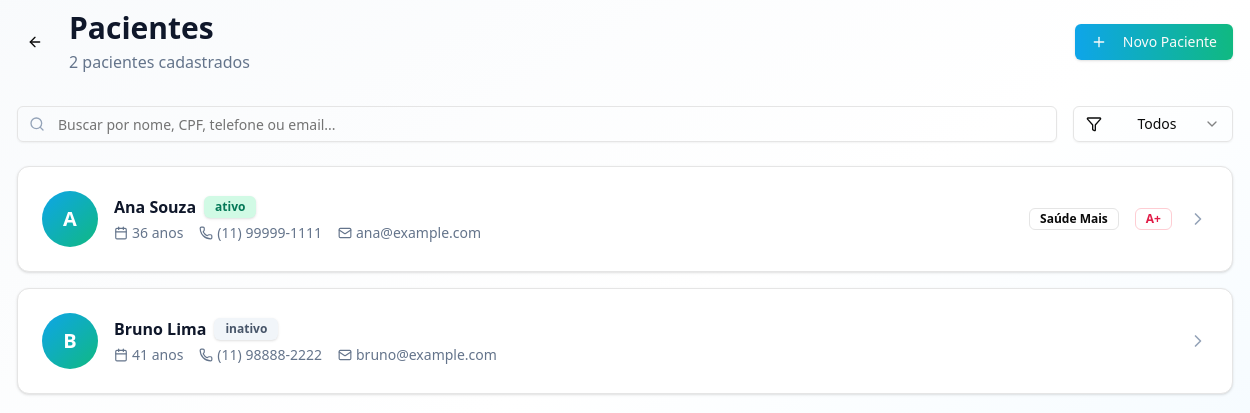
Test: Patients › filters patients by name
Type "Ana" into the field with placeholder "Buscar por nome, CPF, telefone ou email...".
click(537, 124); type("Ana")  # box [17,106,1057,142]
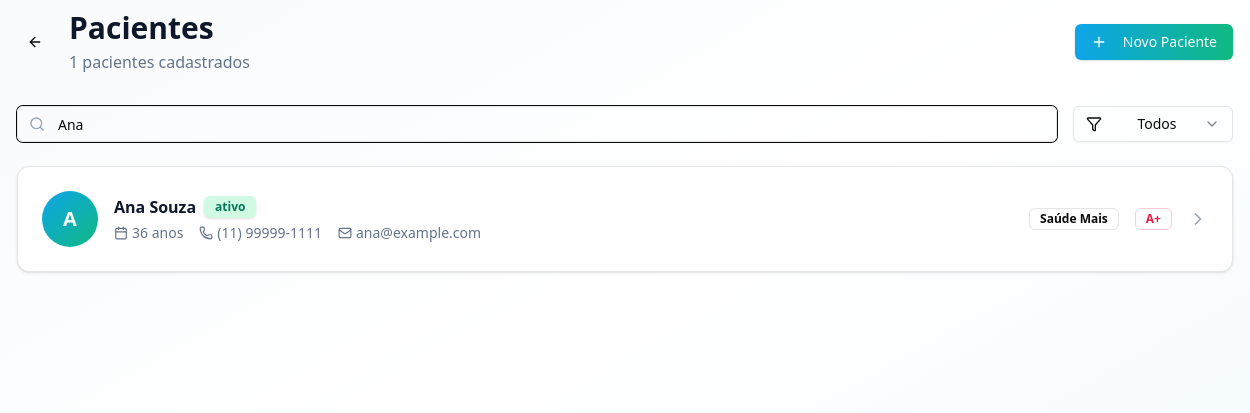
Expected: the heading "Ana Souza" is shown, [114,195,196,219]
Expected: the link "Bruno Lima" is gone
Expected: the text "1 pacientes cadastrados" is shown, [69,50,250,74]
